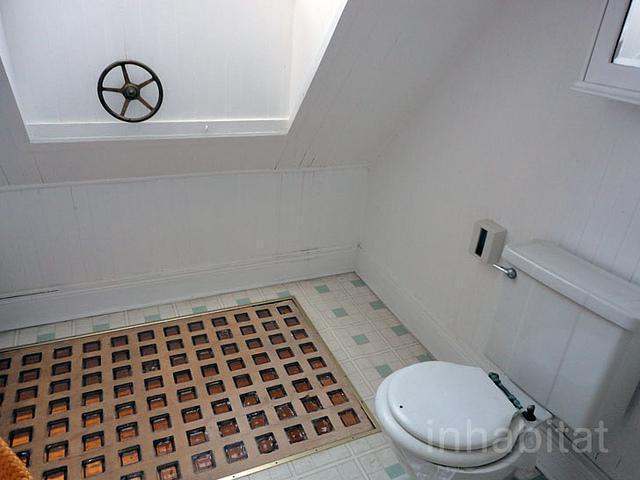Sanitario: (367, 239, 639, 479)
